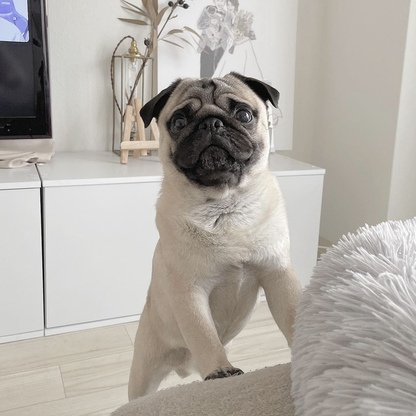Pug: (125, 69, 305, 402)
